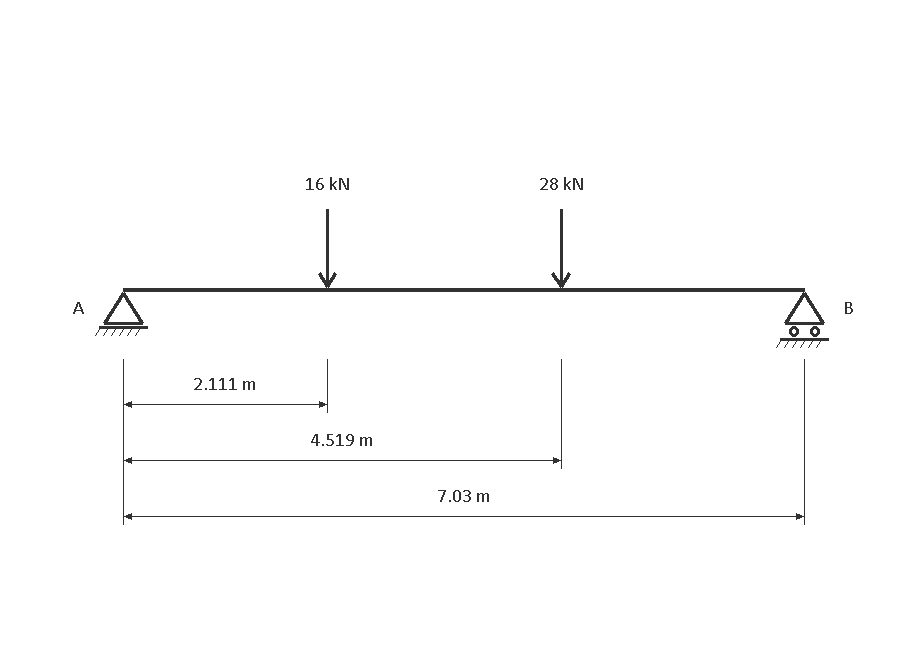pin_support: (95, 292, 148, 336)
point_load: (551, 209, 571, 288), (318, 209, 337, 288)
roller_support: (776, 292, 829, 348)
